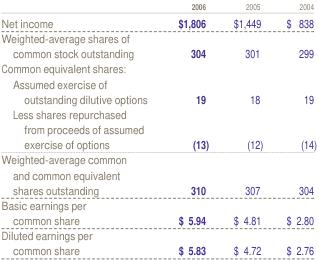table: (0, 0, 316, 257)
table column: (0, 0, 162, 257), (162, 0, 220, 257), (220, 0, 274, 257), (274, 0, 316, 257)
table column header: (0, 0, 316, 13)
table projected row header: (0, 60, 316, 75)
table row: (0, 105, 316, 151), (0, 151, 316, 196), (0, 196, 316, 227), (0, 30, 316, 60), (0, 75, 316, 105), (0, 227, 316, 257), (0, 13, 316, 30), (0, 60, 316, 75), (0, 0, 316, 13)
